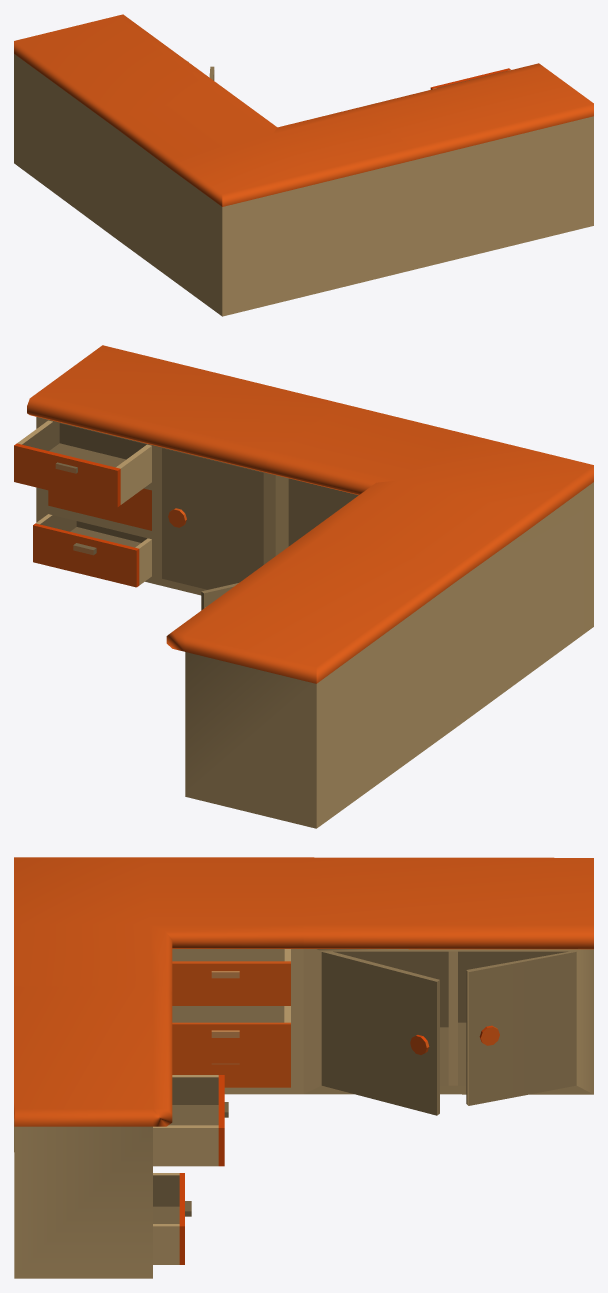
The model's file is Bench.fbx.
The picture shows the model from 3 angles, top to bottom: view 1: azimuth 30°, elevation 25°; view 2: azimuth 150°, elevation 25°; view 3: azimuth 270°, elevation 25°; orthographic projection. The views are drawn at different scales.
Visible parts, largest first — view 1: Bench_Model1; view 2: Bench_Model1; view 3: Bench_Model1.
Part boxes in pixels (x1,y1,x2,y2): Bench_Model1: (14,14,593,316); Bench_Model1: (14,345,593,828); Bench_Model1: (14,857,593,1278).
Bounding box in the file's own units: 4264 × 1342 × 4155.
